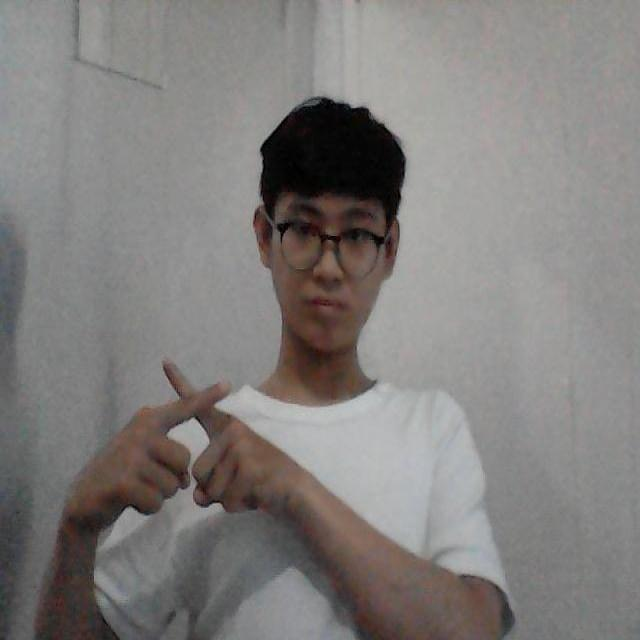X: (90, 339, 288, 522)
